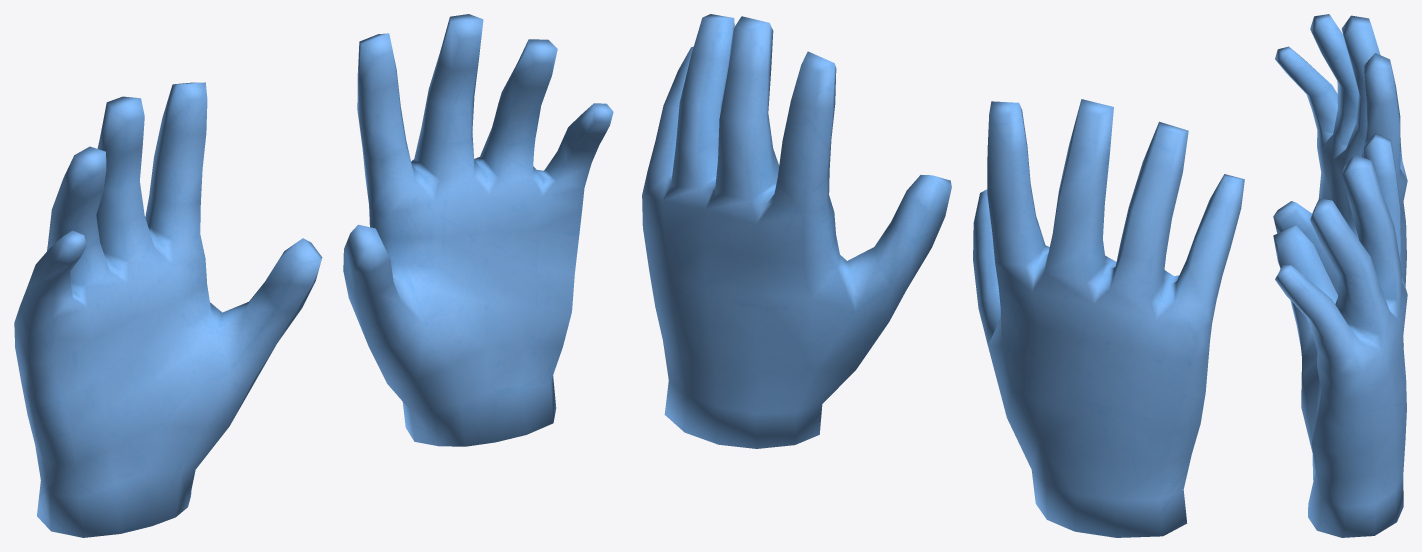
Rendered from Gloves.fbx.
3 views of the same model, side by side, from view 1: azimuth 30°, elevation 25°; view 2: azimuth 150°, elevation 25°; view 3: azimuth 270°, elevation 25° (orthographic). The views are drawn at different scales.
Parts seen in each view (by area): view 1: Hand.001, Hand; view 2: Hand, Hand.001; view 3: Hand, Hand.001.
Part boxes in pixels (left/top/right/bottom): Hand.001: left=14, top=82, right=322, bottom=537; Hand: left=343, top=14, right=613, bottom=446; Hand: left=642, top=14, right=951, bottom=448; Hand.001: left=973, top=99, right=1244, bottom=537; Hand: left=1273, top=133, right=1407, bottom=537; Hand.001: left=1273, top=14, right=1407, bottom=346.
Bounding box in the file's own units: 36.62 × 25.32 × 8.98.
Materials: 1 (1 with a texture image).
